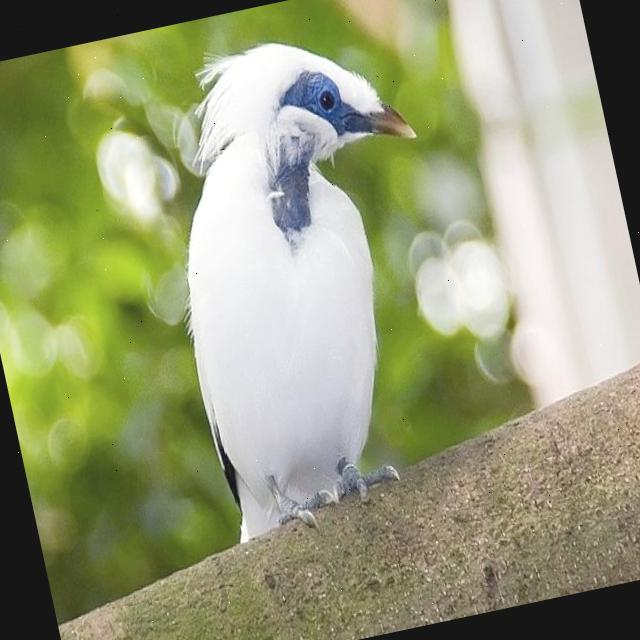Jalak Bali: (91, 12, 511, 580)
